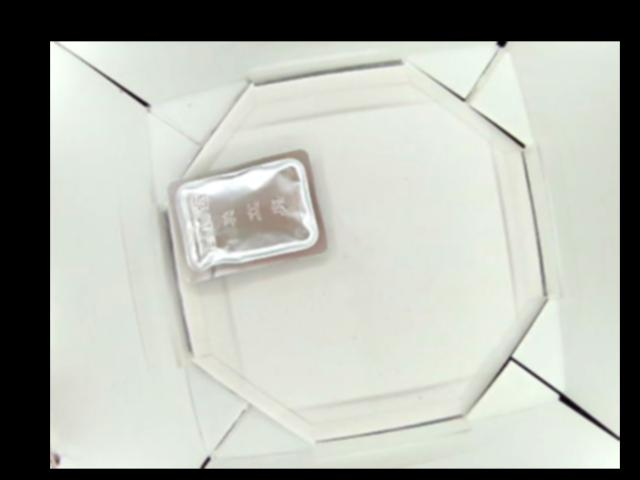Medicine: (170, 148, 326, 289)
